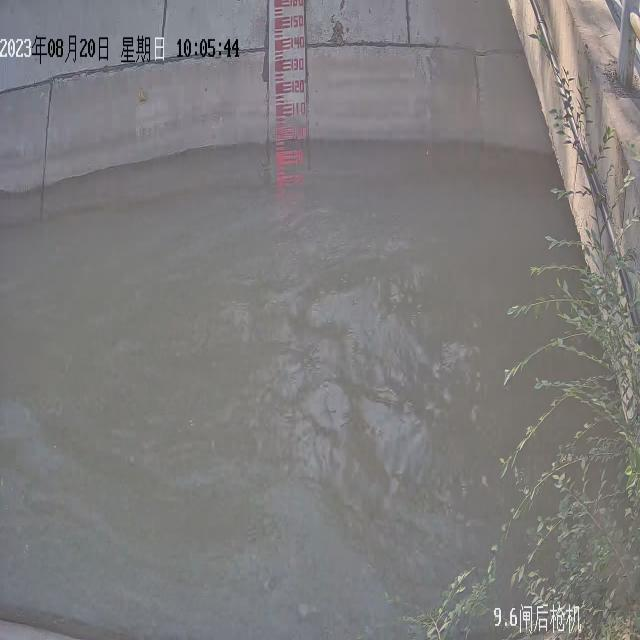ruler: (268, 0, 312, 188)
value: (291, 125, 309, 142), (290, 101, 307, 118), (290, 57, 306, 74), (287, 13, 305, 28), (290, 35, 306, 51), (290, 78, 306, 93), (292, 148, 304, 165), (286, 0, 305, 10)
